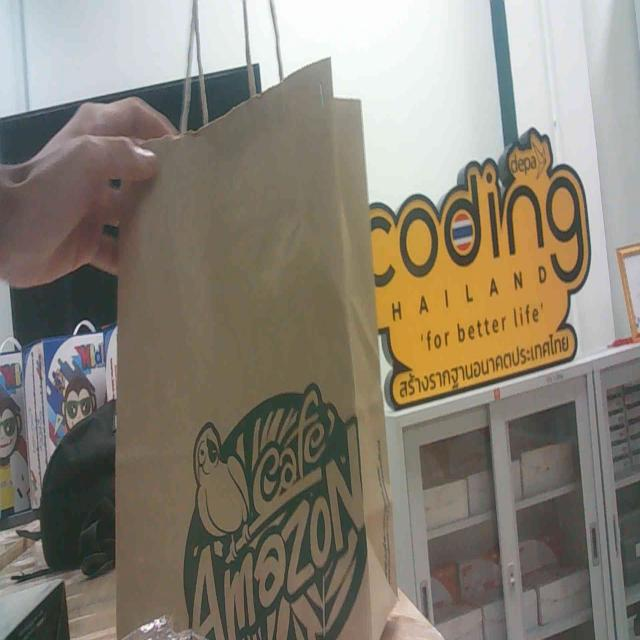bag: (124, 127, 372, 611)
